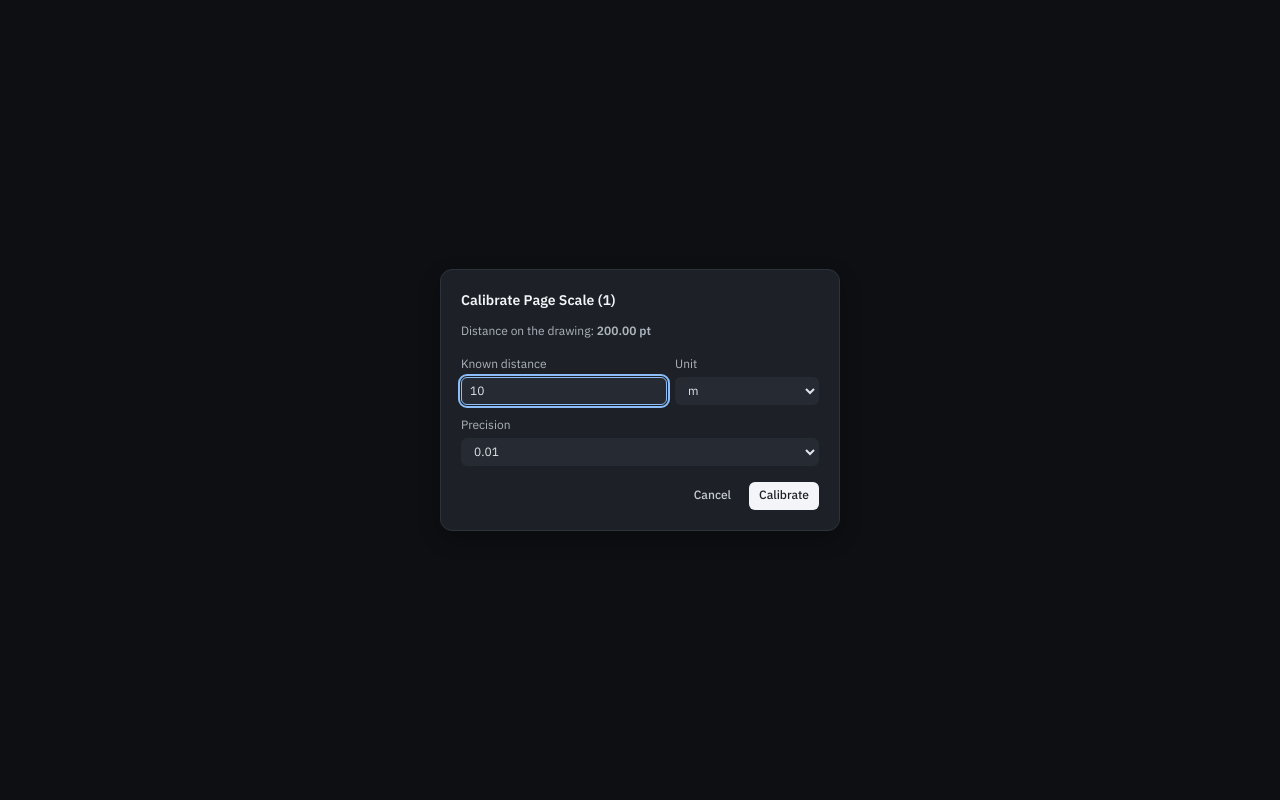
Test: CalibrationModal Component (Paquete 4) › valida con guarda valores <= 0 o no numéricos mostrando error
Replace the text in the field with test id "calibration-length-input" with "-2.5" at (564, 391), box [461,377,667,405]
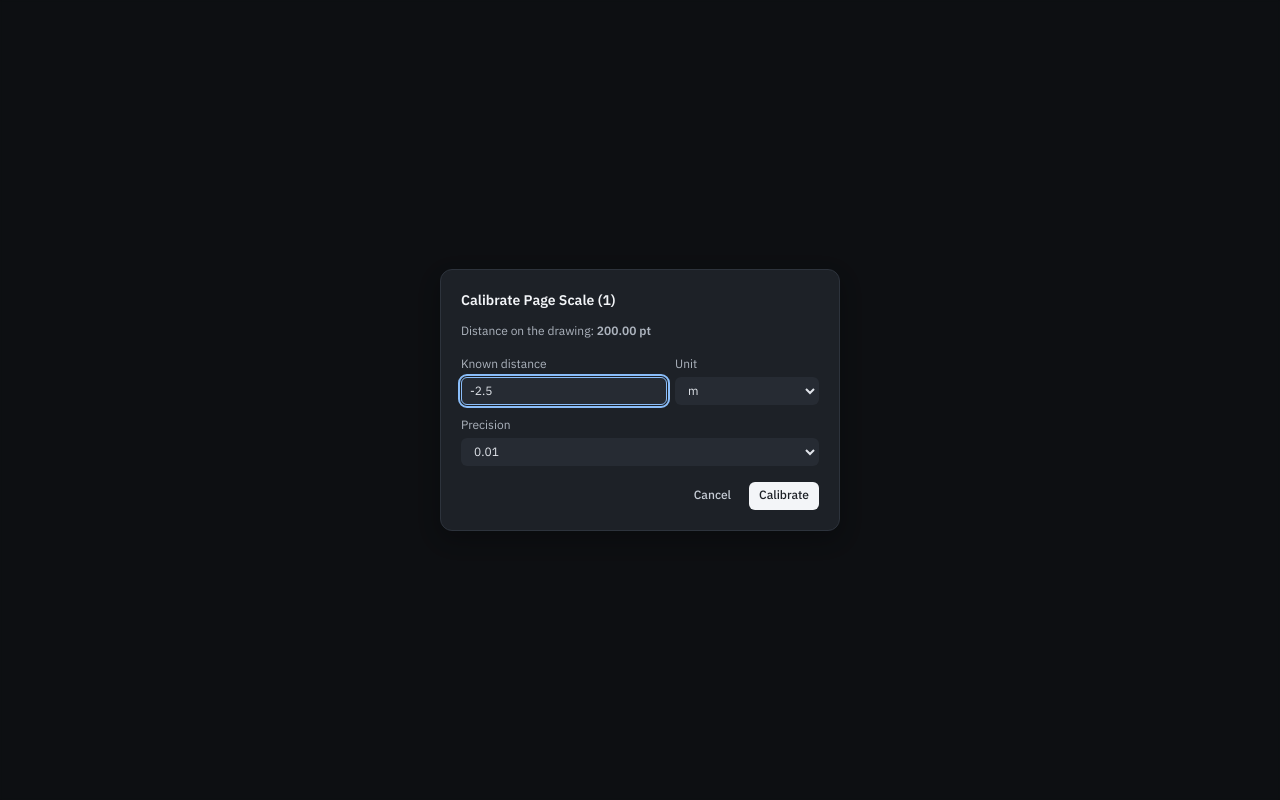
Click the button with test id "calibration-confirm-btn" at (784, 496), box [749,482,819,510]
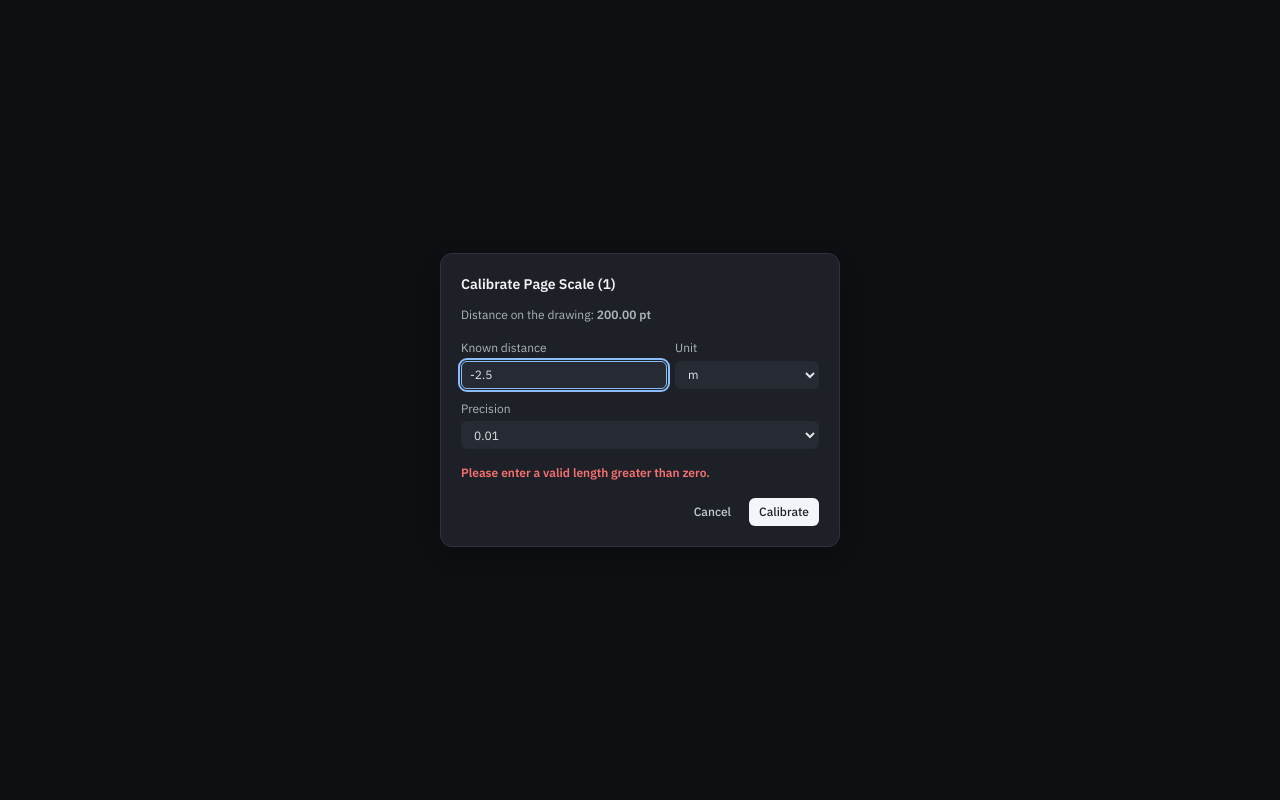
Result: the message "Please enter a valid length greater than zero." is shown at [461,465,710,480]
